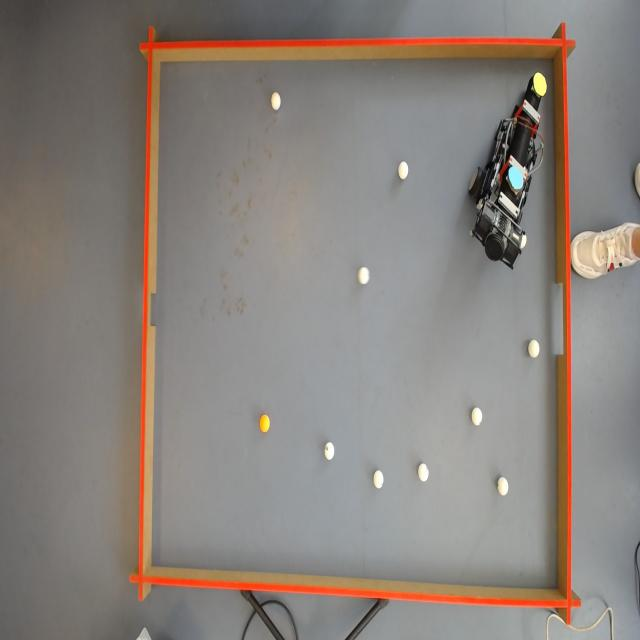orange: (260, 413, 272, 432)
robot: (474, 56, 548, 276)
robot-front: (534, 75, 547, 96)
robot-rear: (508, 162, 527, 190)
white: (398, 160, 411, 180), (270, 91, 283, 111), (372, 470, 384, 491), (322, 441, 334, 460), (499, 478, 511, 497), (472, 407, 484, 425), (359, 267, 371, 285), (529, 340, 541, 357), (418, 465, 430, 481)
